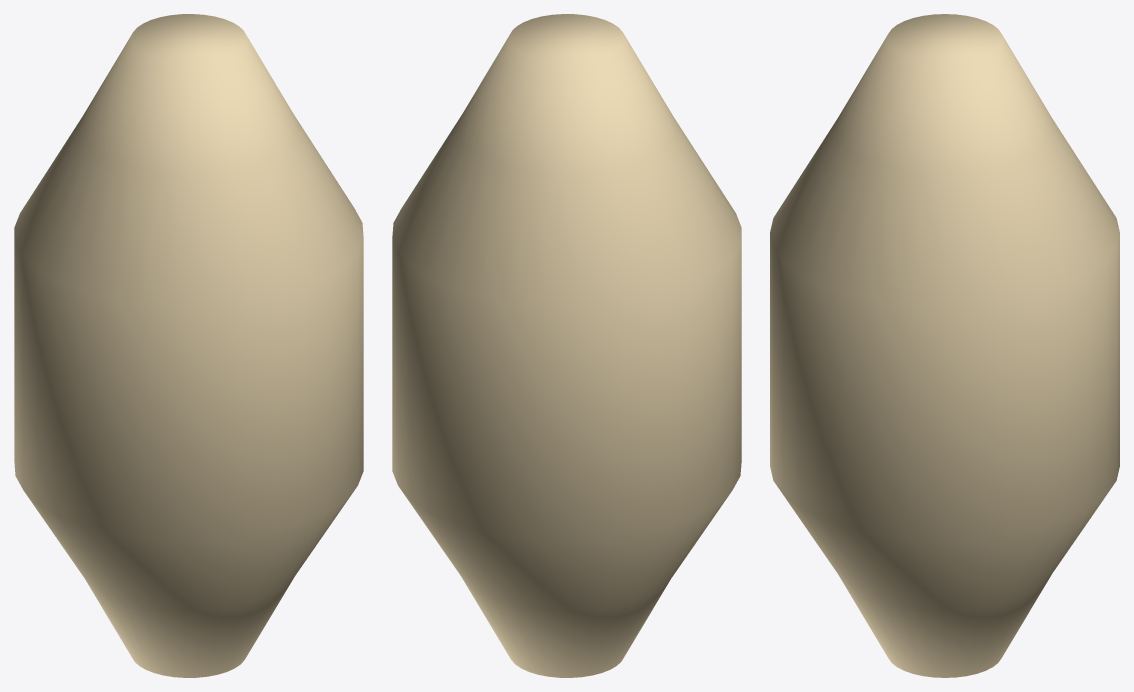
File: lechuga.glb
3 views of the same model, side by side, from view 1: azimuth 30°, elevation 25°; view 2: azimuth 150°, elevation 25°; view 3: azimuth 270°, elevation 25° (orthographic).
Visible parts, largest first — view 1: SEMILLA; view 2: SEMILLA; view 3: SEMILLA.
Boxes of the visible parts, x1=… form: SEMILLA: x1=14, y1=14, x2=363, y2=677; SEMILLA: x1=392, y1=14, x2=741, y2=677; SEMILLA: x1=770, y1=14, x2=1119, y2=677.
Size of what is drawn, in the model's own units: 0.2995 by 0.5809 by 0.2995.
